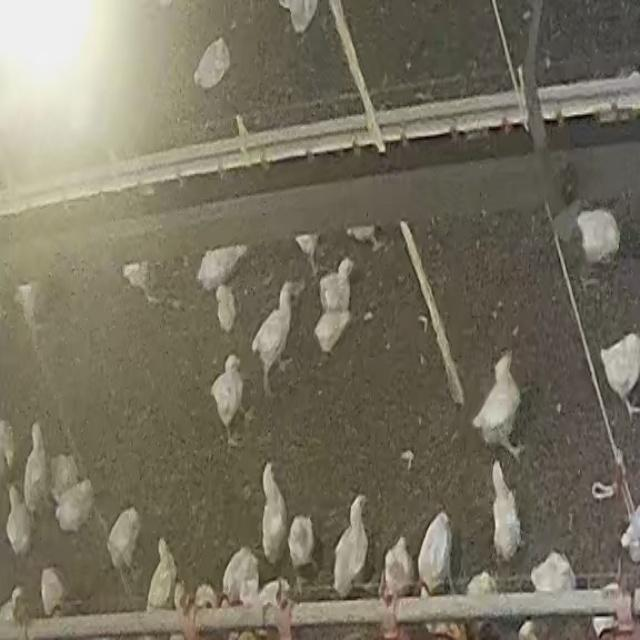chicken: (468, 356, 536, 466), (250, 281, 304, 397), (203, 351, 255, 448), (328, 491, 374, 595), (483, 458, 526, 560), (255, 454, 287, 569), (418, 511, 458, 593), (103, 503, 146, 570), (284, 508, 324, 578), (22, 420, 50, 517), (192, 37, 234, 91), (382, 537, 414, 595)
